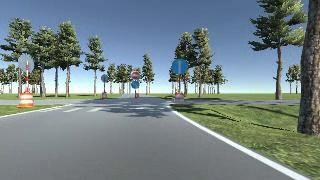go_ahead: (171, 58, 187, 75)
